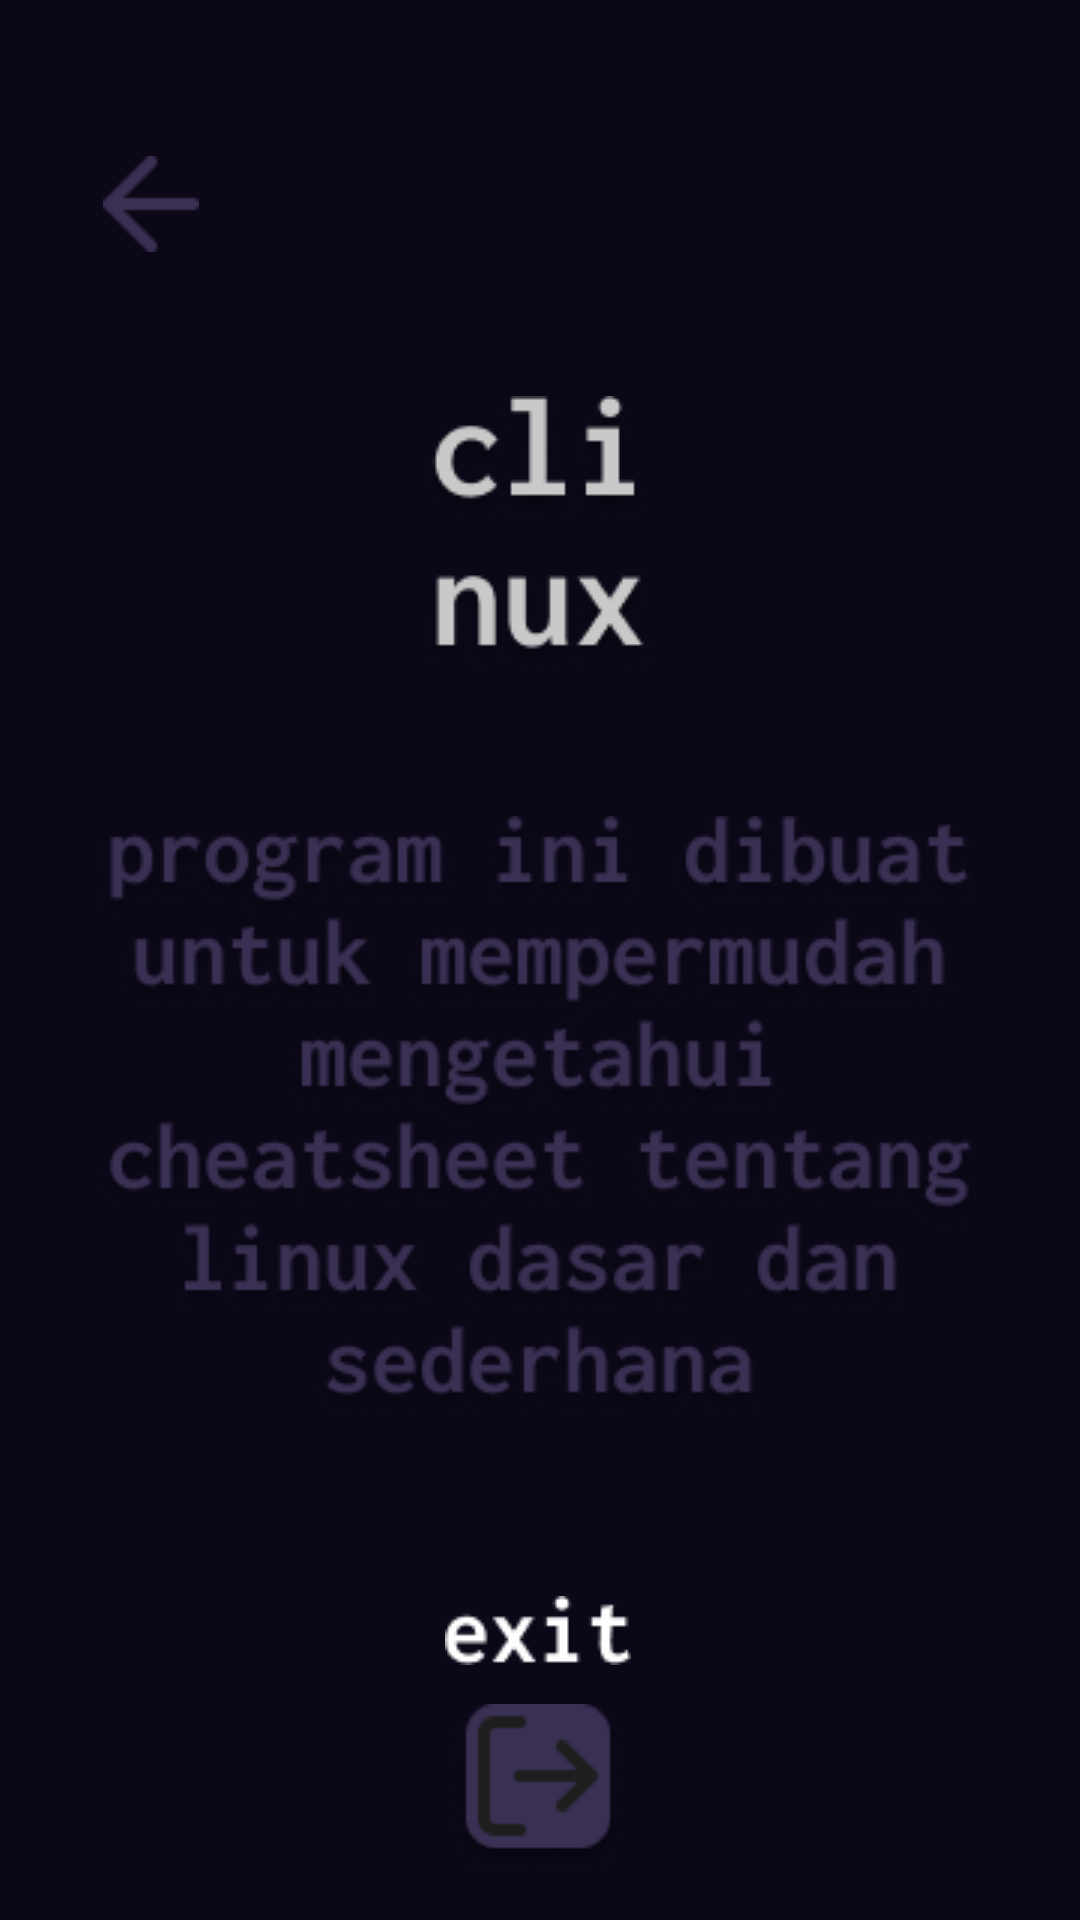

Where to tap for icons on this 1080*1920 app screen, as point (x, y):
back: point (151, 204)
